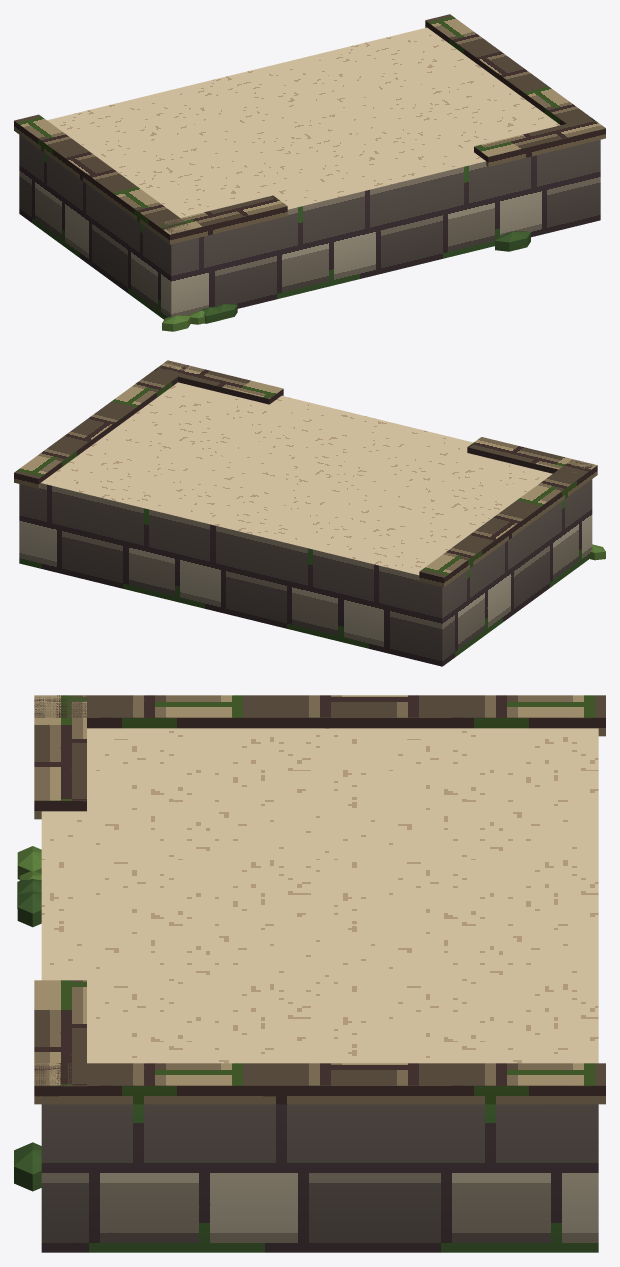
File: scene_spire_terrace.glb
The picture shows the model from 3 angles, top to bottom: view 1: azimuth 30°, elevation 25°; view 2: azimuth 150°, elevation 25°; view 3: azimuth 270°, elevation 25°; orthographic projection. The views are drawn at different scales.
Visible parts, largest first — view 1: scene_spire_terrace; view 2: scene_spire_terrace; view 3: scene_spire_terrace.
Part boxes in pixels (x1=…): scene_spire_terrace: x1=14, y1=14, x2=605, y2=331; scene_spire_terrace: x1=14, y1=360, x2=605, y2=666; scene_spire_terrace: x1=14, y1=695, x2=605, y2=1252.
Bounding box in the file's own units: 6.42 × 1.37 × 4.04.
3 materials, 2 textured.
